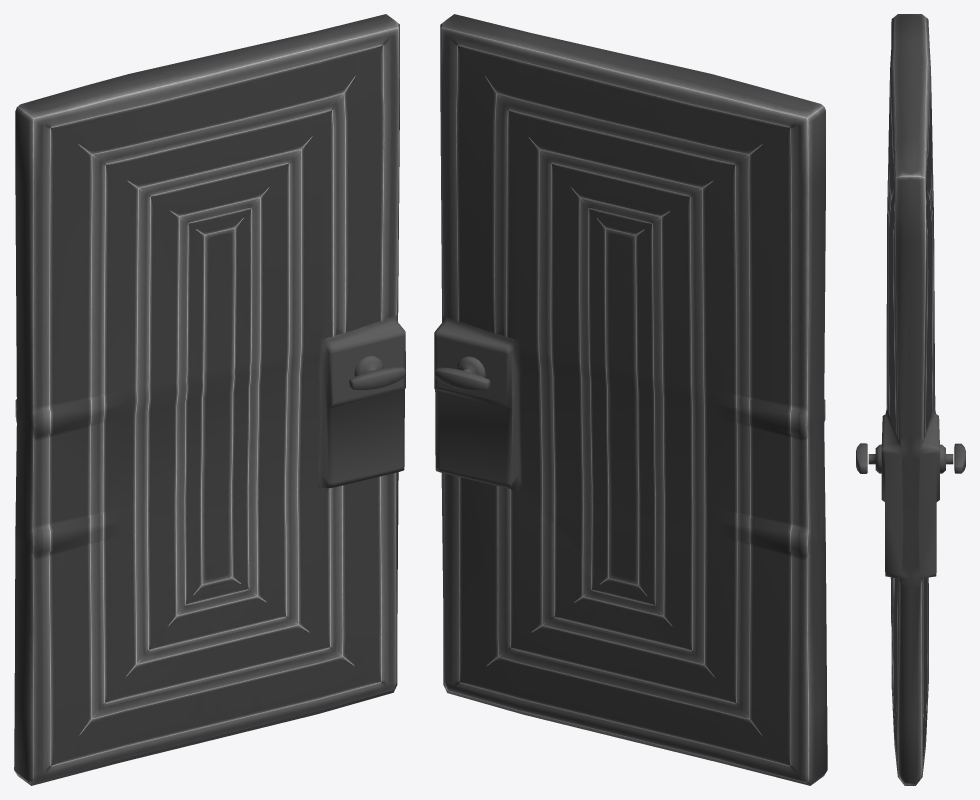
File: steel_portal_rust_metal_door.glb
3 renders of one model, left to right at view 1: azimuth 30°, elevation 25°; view 2: azimuth 150°, elevation 25°; view 3: azimuth 270°, elevation 25°, orthographic. The views are drawn at different scales.
Parts seen in each view (by area): view 1: door_low; view 2: door_low; view 3: door_low.
Boxes of the visible parts, x1,y1,x2,y2 form: door_low: (14,14,405,785); door_low: (434,14,827,785); door_low: (856,14,965,785).
Size of the model in its own units: 1.19 by 2.04 by 0.3302.
1 material, 1 textured.
